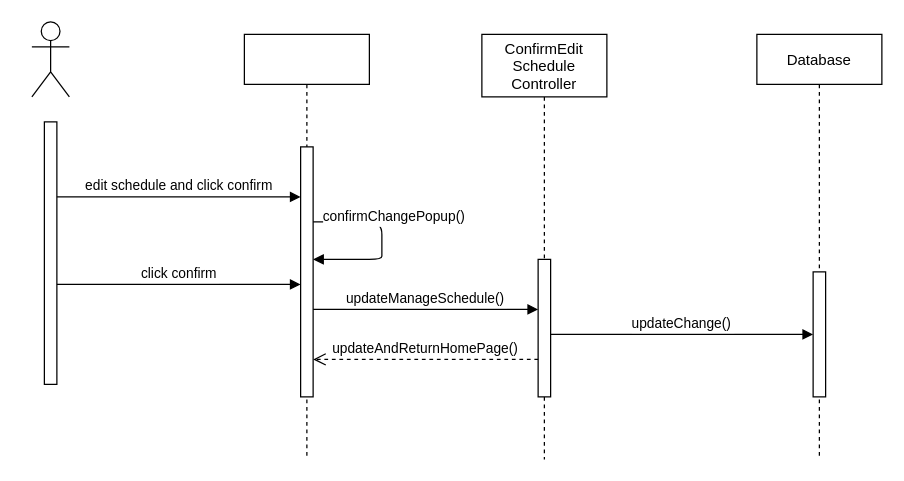
Image size: 904x481. Some labels were removed from this diagram. The shapes that lost their labels are listed below. From the top down, each one's box as (x1, y1, x2, y2) in pixels, then its label:
(31, 21, 69, 97): Manager
(243, 33, 369, 459): ManageSchedule View
